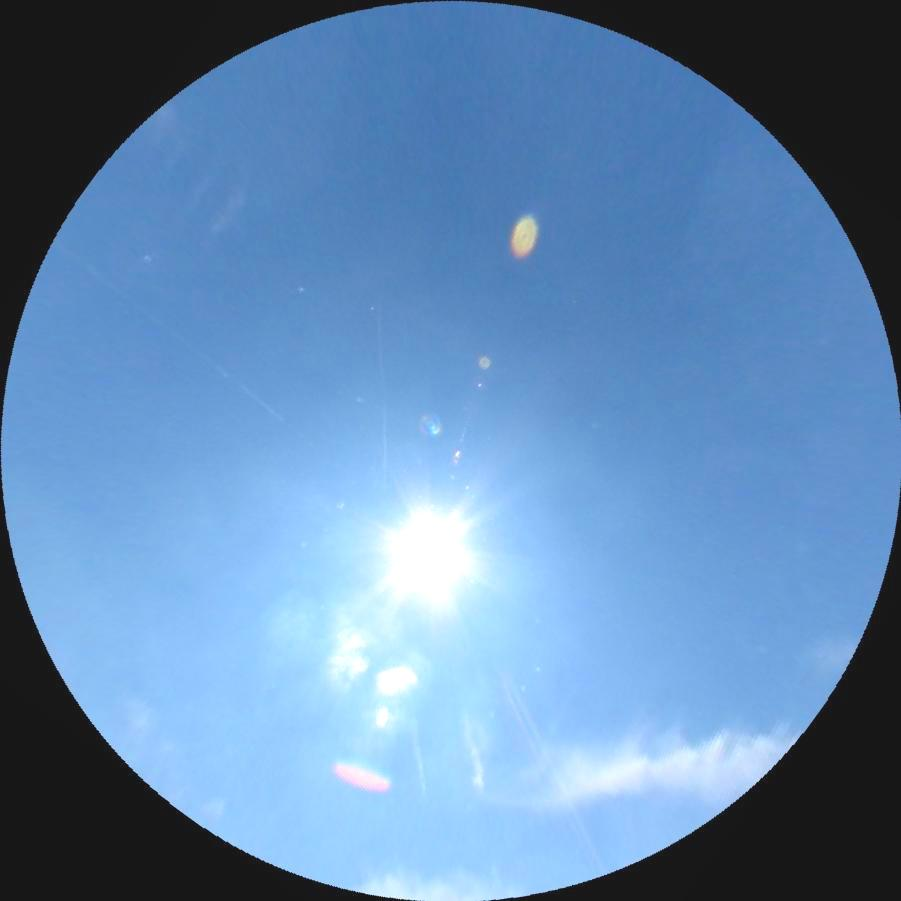contrail old: (409, 718, 426, 795), (378, 308, 385, 488)
parasite: (49, 235, 307, 437), (508, 684, 607, 874), (502, 685, 537, 756)
sun: (392, 511, 465, 589)
